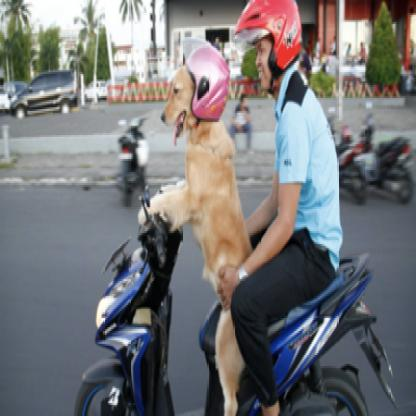With Helmet: (237, 0, 300, 95)
